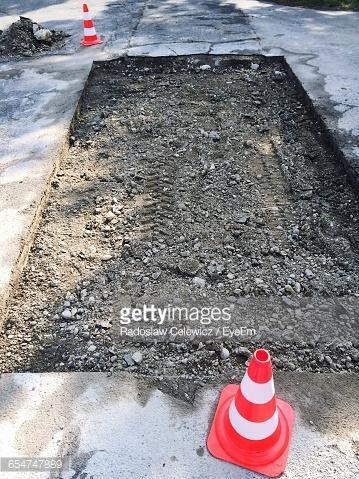Cone: (209, 347, 303, 479), (75, 0, 107, 47)
